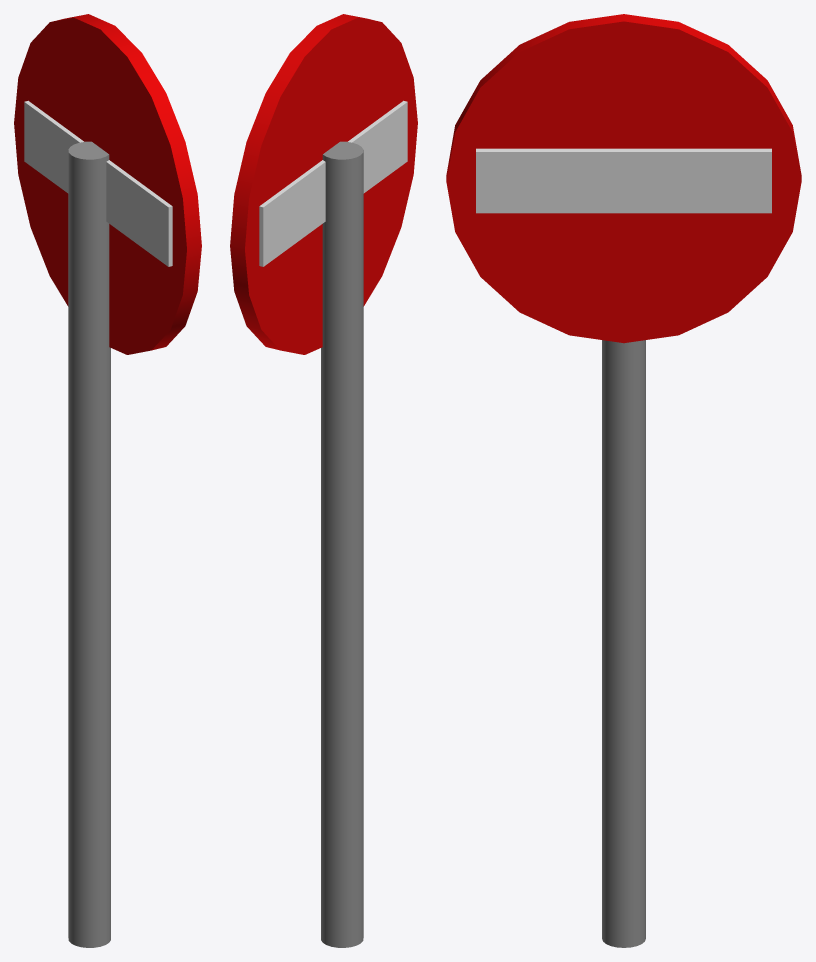
Rendered from Block Sign.fbx.
The picture shows the model from 3 angles, left to right: view 1: azimuth 30°, elevation 25°; view 2: azimuth 150°, elevation 25°; view 3: azimuth 270°, elevation 25°; orthographic projection. The views are drawn at different scales.
Parts seen in each view (by area): view 1: pasted__pCylinder1, pCylinder1, pCube1; view 2: pasted__pCylinder1, pCylinder1, pCube1; view 3: pCylinder1, pasted__pCylinder1, pCube1.
Boxes of the visible parts, x1,y1,x2,y2 form: pasted__pCylinder1: (68, 141, 110, 947); pCylinder1: (14, 14, 201, 354); pCube1: (24, 100, 172, 266); pasted__pCylinder1: (321, 141, 363, 947); pCylinder1: (230, 14, 417, 354); pCube1: (259, 100, 407, 266); pCylinder1: (446, 14, 801, 343); pasted__pCylinder1: (602, 340, 645, 947); pCube1: (476, 148, 771, 213).
Size of the model in its own units: 0.3406 by 5.78 by 2.
